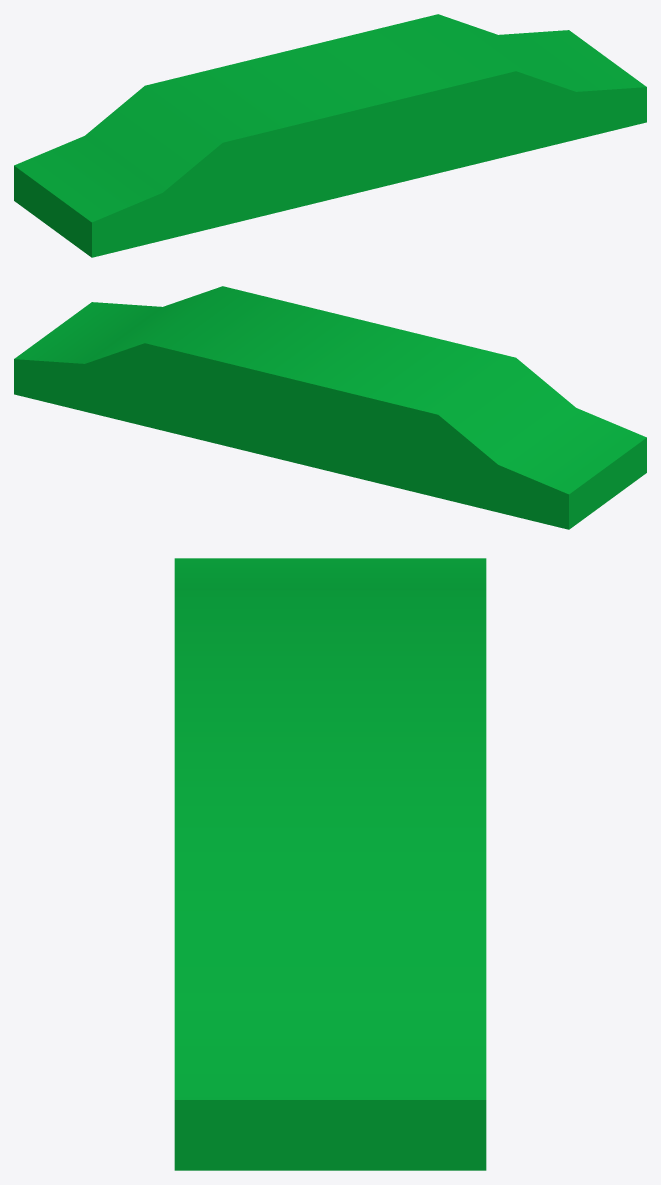
The model's file is basic_stepslope.gltf.
3 views of the same model, one above another, from view 1: azimuth 30°, elevation 25°; view 2: azimuth 150°, elevation 25°; view 3: azimuth 270°, elevation 25° (orthographic). The views are drawn at different scales.
Parts seen in each view (by area): view 1: basic_stepslope_glb; view 2: basic_stepslope_glb; view 3: basic_stepslope_glb.
Boxes of the visible parts, x1=… form: basic_stepslope_glb: x1=14, y1=14, x2=646, y2=257; basic_stepslope_glb: x1=14, y1=286, x2=646, y2=529; basic_stepslope_glb: x1=174, y1=558, x2=486, y2=1170.
Size of what is drawn, in the model's own units: 4 by 0.5727 by 0.9725.
1 material, 1 textured.
